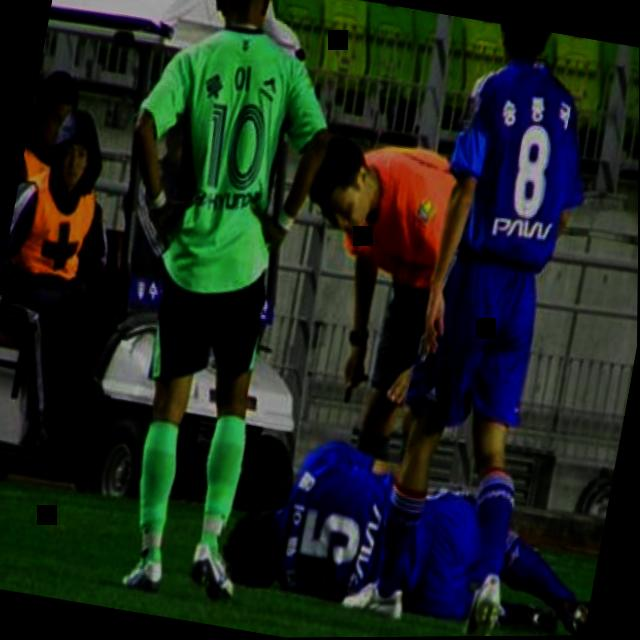Fall-Detected: (199, 408, 614, 639)
